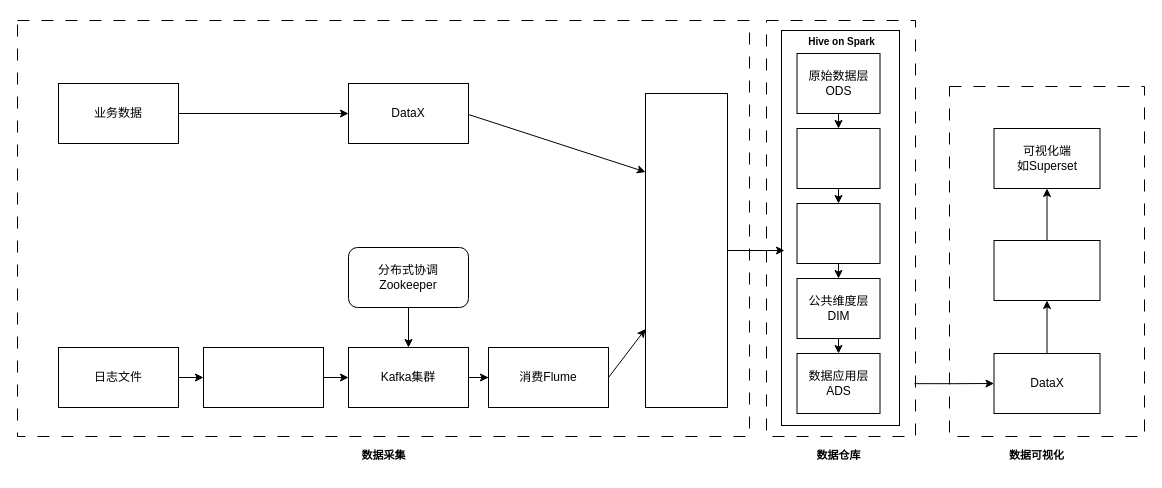
This 1162x488 diagram has some shape labels left out. Here are the shapes that lost their labels. From the top down, the centre of each, then its label:
At point 838,158: "数据明细层 DWD".
At point 686,250: "HDFS".
At point 838,233: "数据服务层 DWS".
At point 1046,270: "MySQL".
At point 263,377: "生成Flume".
